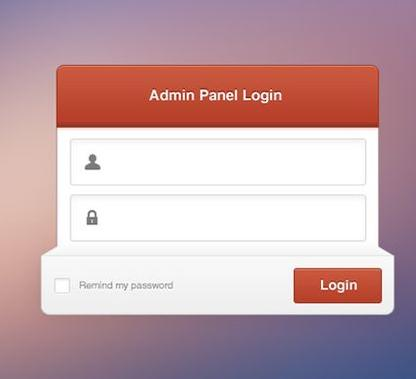button: (289, 267, 383, 305)
checkbox: (49, 275, 74, 295)
checkbox_with_label: (46, 272, 174, 297)
field: (68, 193, 366, 244), (66, 138, 367, 187)
